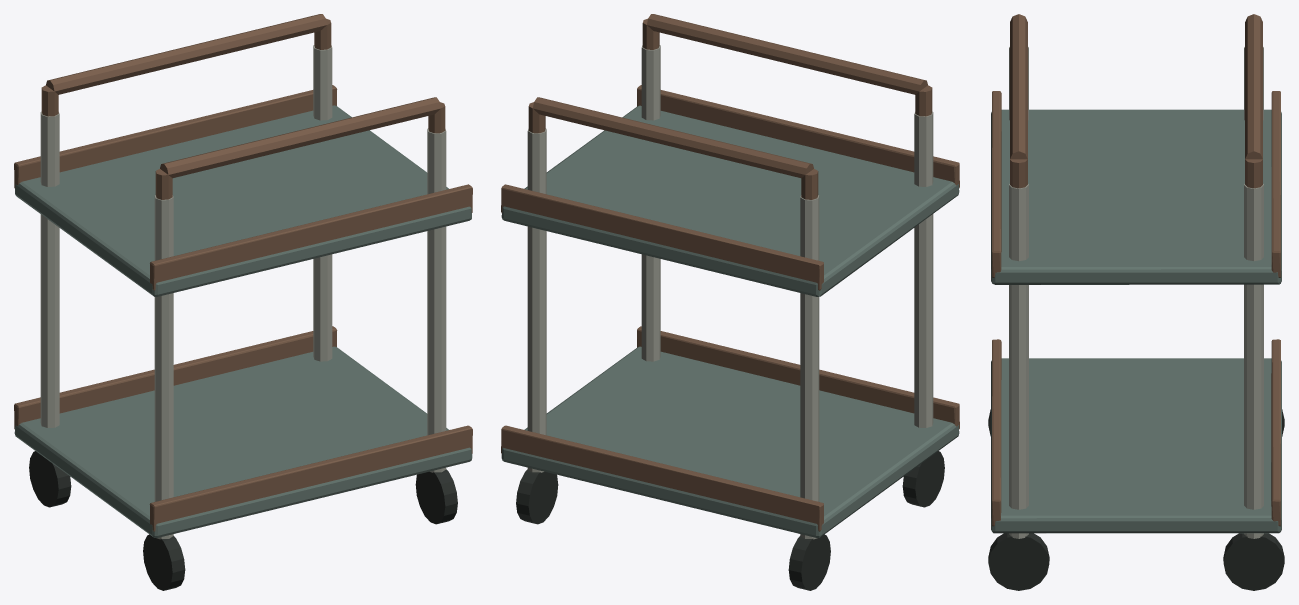
The model's file is trolley_low.glb.
3 views of the same model, side by side, from view 1: azimuth 30°, elevation 25°; view 2: azimuth 150°, elevation 25°; view 3: azimuth 270°, elevation 25° (orthographic). The views are drawn at different scales.
Visible parts, largest first — view 1: trolley.001; view 2: trolley.001; view 3: trolley.001.
Part boxes in pixels (box(x1,y1,x2,y2)): trolley.001: box(14, 14, 472, 590); trolley.001: box(501, 14, 959, 590); trolley.001: box(988, 14, 1284, 590).
Bounding box in the file's own units: 0.68 × 0.8606 × 0.5292.
